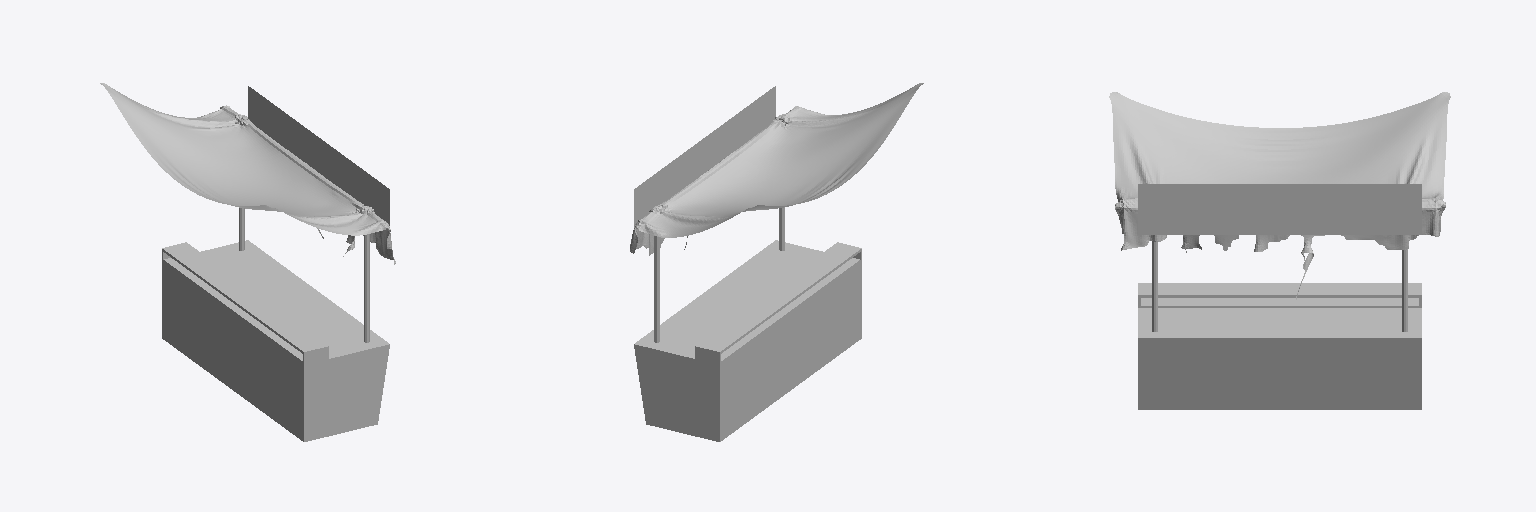
The model's file is StreetStand.obj.
3 renders of one model, left to right at view 1: azimuth 30°, elevation 25°; view 2: azimuth 150°, elevation 25°; view 3: azimuth 270°, elevation 25°, orthographic.
Visible parts, largest first — view 1: Cube_Cube, Plane.001_Plane.001, Plane_Plane; view 2: Cube_Cube, Plane.001_Plane.001, Plane_Plane; view 3: Cube_Cube, Plane.001_Plane.001, Plane_Plane.
Boxes of the visible parts, <box> form: Cube_Cube: <box>162,208,389,441</box>; Plane.001_Plane.001: <box>100,83,395,264</box>; Plane_Plane: <box>248,86,389,225</box>; Cube_Cube: <box>634,207,861,441</box>; Plane.001_Plane.001: <box>630,83,923,255</box>; Plane_Plane: <box>634,86,775,224</box>; Cube_Cube: <box>1138,241,1421,409</box>; Plane.001_Plane.001: <box>1109,92,1450,299</box>; Plane_Plane: <box>1138,184,1421,234</box>.
Size of the model in its own units: 124 by 200 by 240.